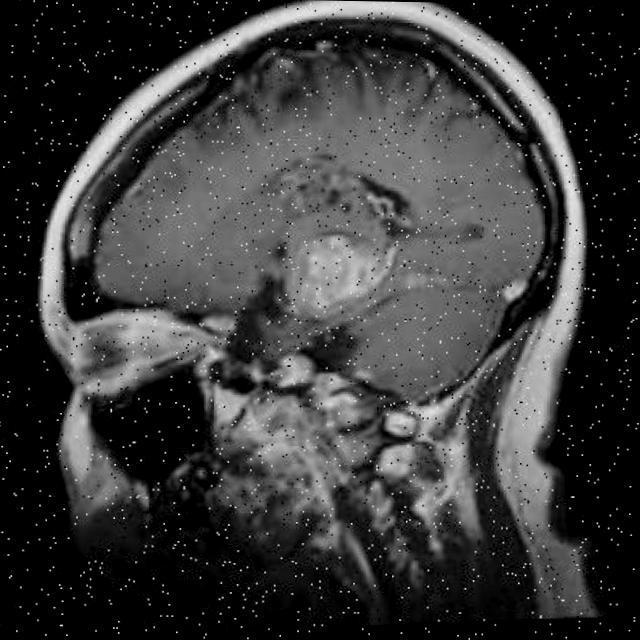LMCI: (254, 238, 418, 336)
